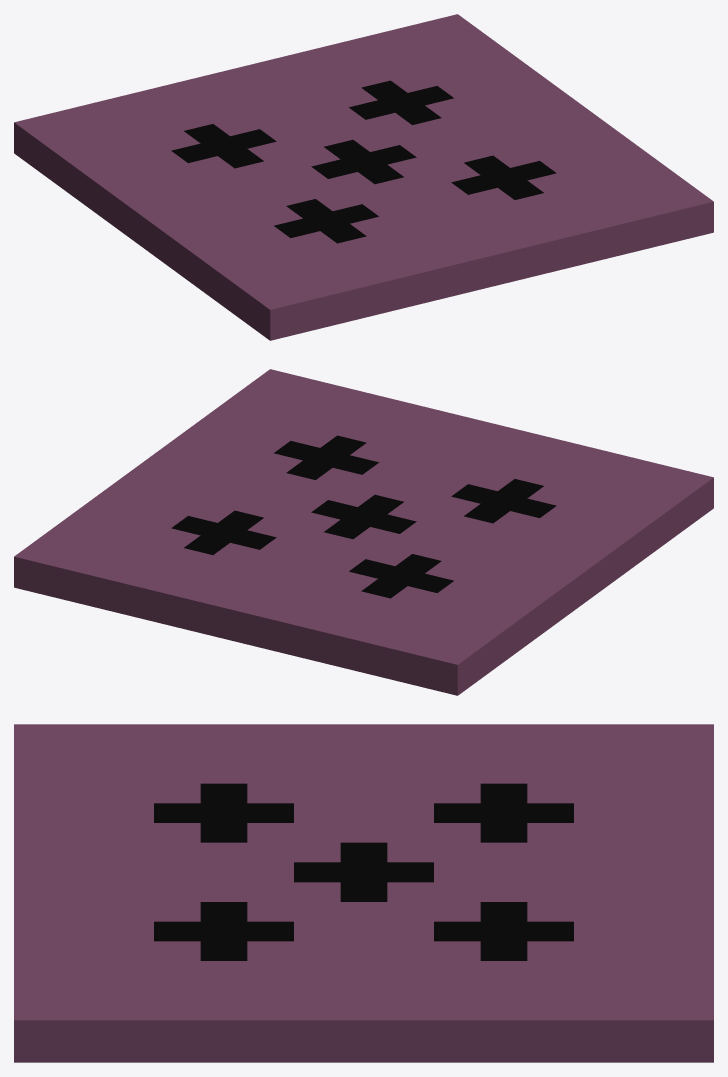
File: dungeon_c_b_ground_a_b.obj
3 views of the same model, one above another, from view 1: azimuth 30°, elevation 25°; view 2: azimuth 150°, elevation 25°; view 3: azimuth 270°, elevation 25° (orthographic). The views are drawn at different scales.
Bounding box in the file's own units: 1.5 × 0.1 × 1.5.
Materials: 1 (1 with a texture image).
